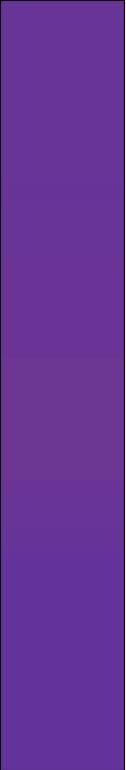safe: (9, 4, 120, 756)
